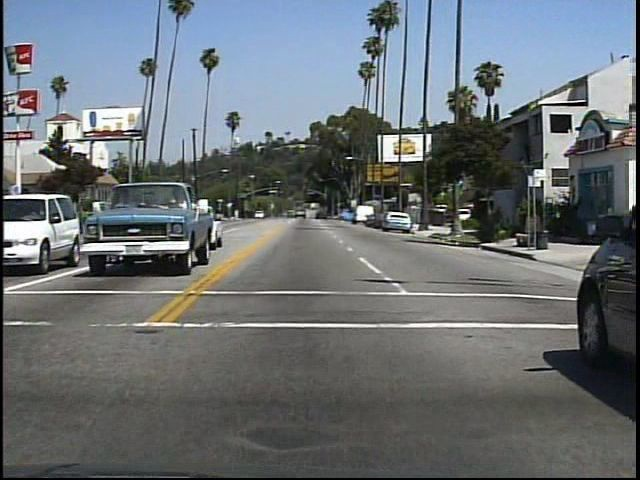person: (492, 199, 515, 247)
